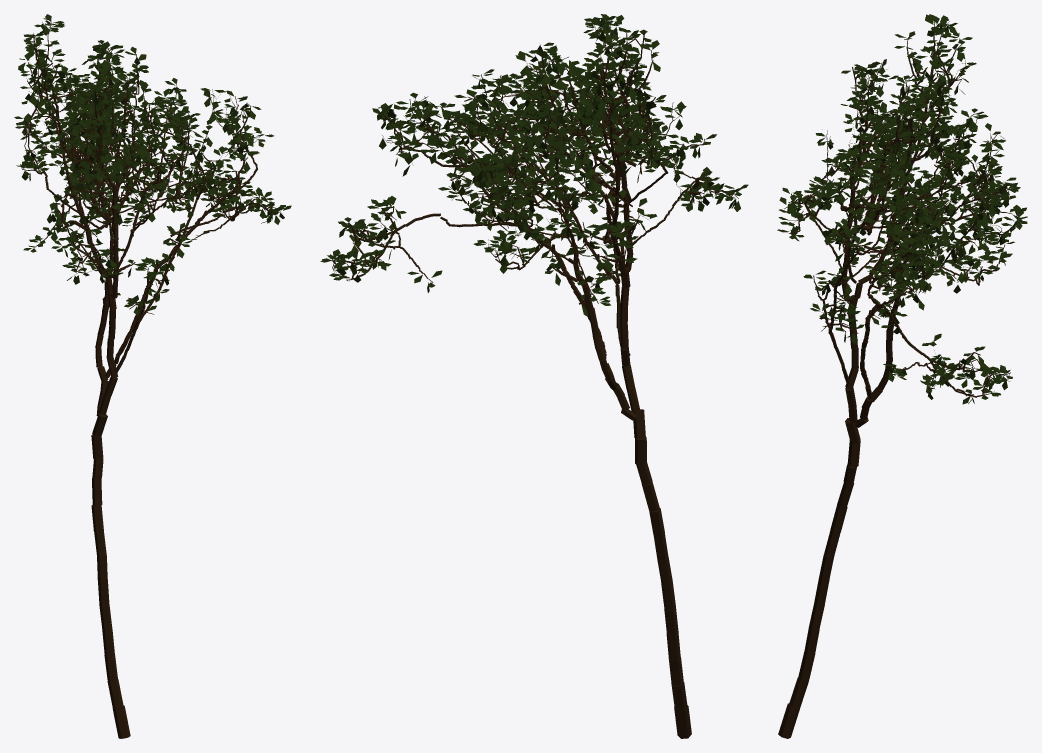
The model's file is tree_114.obj.
3 views of the same model, side by side, from view 1: azimuth 30°, elevation 25°; view 2: azimuth 150°, elevation 25°; view 3: azimuth 270°, elevation 25° (orthographic). The views are drawn at different scales.
Visible parts, largest first — view 1: Leaves, TrunkAndBranches; view 2: Leaves, TrunkAndBranches; view 3: Leaves, TrunkAndBranches.
Part boxes in pixels (left/top/right/bottom): Leaves: left=14, top=14, right=291, bottom=314; TrunkAndBranches: left=20, top=18, right=281, bottom=738; Leaves: left=320, top=14, right=748, bottom=316; TrunkAndBranches: left=330, top=19, right=738, bottom=738; Leaves: left=777, top=14, right=1027, bottom=404; TrunkAndBranches: left=778, top=21, right=1017, bottom=738.
Bounding box in the file's own units: 8.19 × 18.12 × 5.73.
